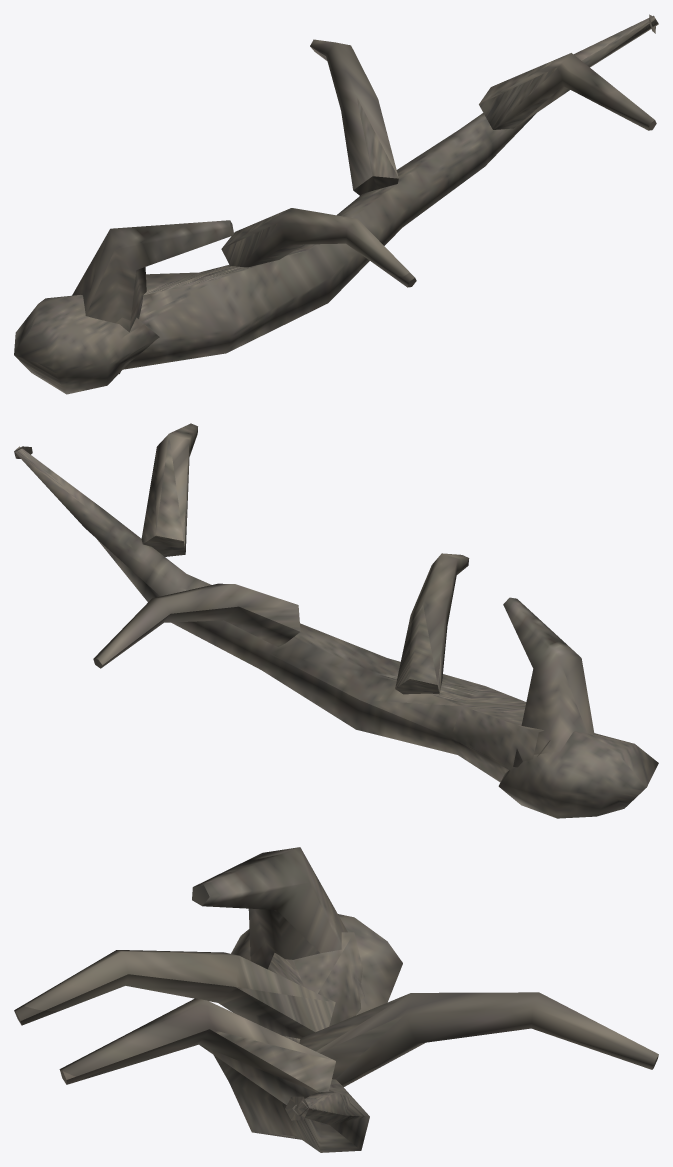
Rendered from bones_antler.glb.
3 views of the same model, one above another, from view 1: azimuth 30°, elevation 25°; view 2: azimuth 150°, elevation 25°; view 3: azimuth 270°, elevation 25° (orthographic). The views are drawn at different scales.
Visible parts, largest first — view 1: bones_antler; view 2: bones_antler; view 3: bones_antler.
Boxes of the visible parts, box(x1,y1,x2,y2) form: bones_antler: box(14, 14, 658, 394); bones_antler: box(14, 423, 658, 818); bones_antler: box(14, 847, 658, 1152).
Size of the model in its own units: 0.8684 by 0.3138 by 0.5523.
Materials: 1 (1 with a texture image).
